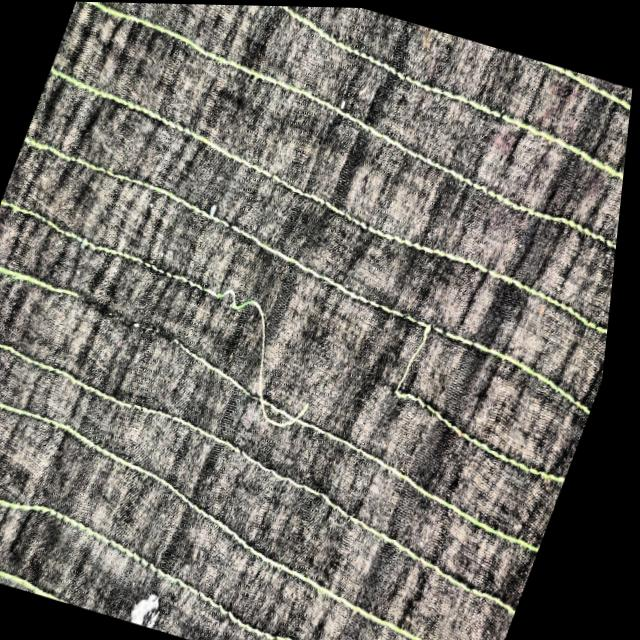Stitch: (171, 247, 373, 452), (0, 228, 151, 349), (370, 299, 477, 434)
